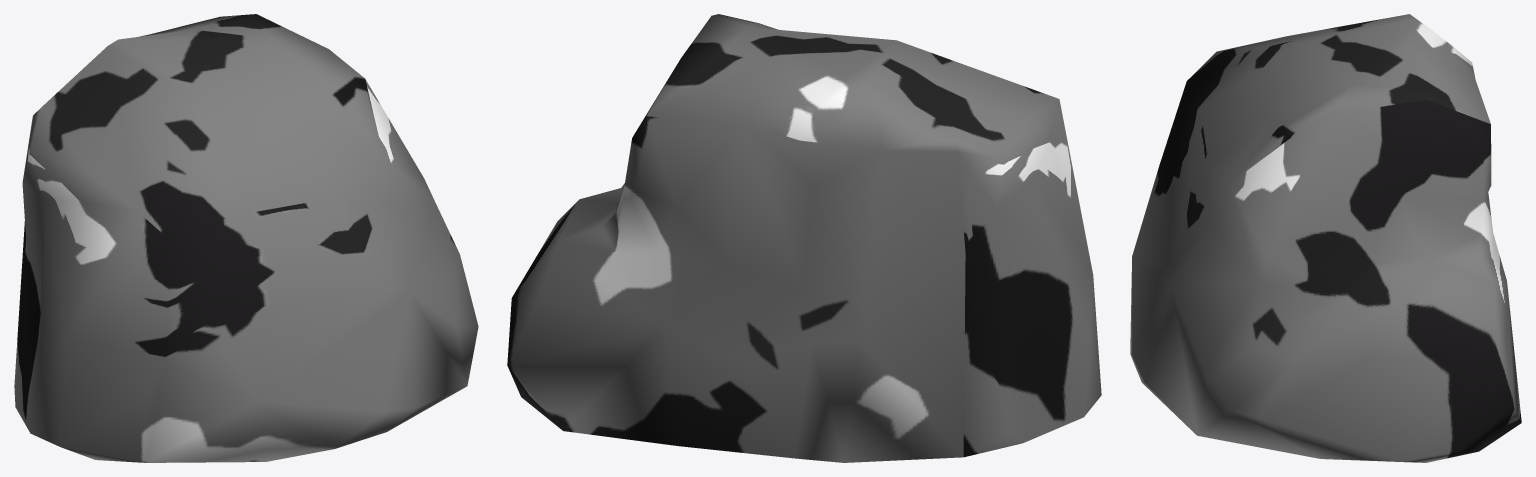
Rendered from SM_Env_LargeRock_02.obj.
The picture shows the model from 3 angles, left to right: view 1: azimuth 30°, elevation 25°; view 2: azimuth 150°, elevation 25°; view 3: azimuth 270°, elevation 25°; orthographic projection. The views are drawn at different scales.
Parts seen in each view (by area): view 1: SM_Env_LargeRock_02_Mat_LargeRocks; view 2: SM_Env_LargeRock_02_Mat_LargeRocks; view 3: SM_Env_LargeRock_02_Mat_LargeRocks.
Part boxes in pixels (x1,y1,x2,y2): SM_Env_LargeRock_02_Mat_LargeRocks: (14, 14, 478, 462); SM_Env_LargeRock_02_Mat_LargeRocks: (507, 14, 1101, 462); SM_Env_LargeRock_02_Mat_LargeRocks: (1130, 14, 1521, 462).
Bounding box in the file's own units: 26.4 × 18.52 × 21.05.
1 material, 1 textured.
